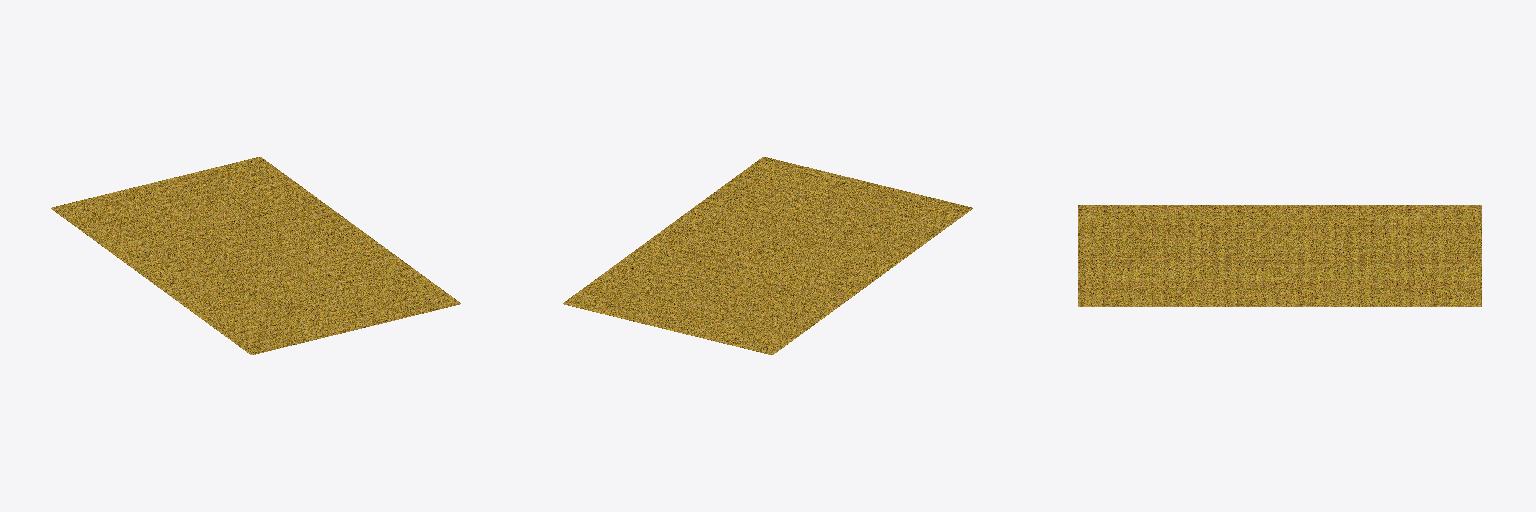
3 renders of one model, left to right at view 1: azimuth 30°, elevation 25°; view 2: azimuth 150°, elevation 25°; view 3: azimuth 270°, elevation 25°, orthographic.
Visible parts, largest first — view 1: Plane.001; view 2: Plane.001; view 3: Plane.001.
Boxes of the visible parts, x1,y1,x2,y2 form: Plane.001: [51, 157, 460, 354]; Plane.001: [563, 157, 972, 354]; Plane.001: [1078, 205, 1481, 306].
Size of the model in its own units: 42.88 by 0 by 71.02.
Materials: 1 (1 with a texture image).